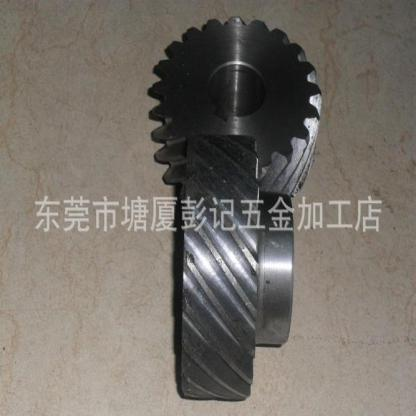FOD: (166, 129, 300, 410), (145, 10, 325, 200)
